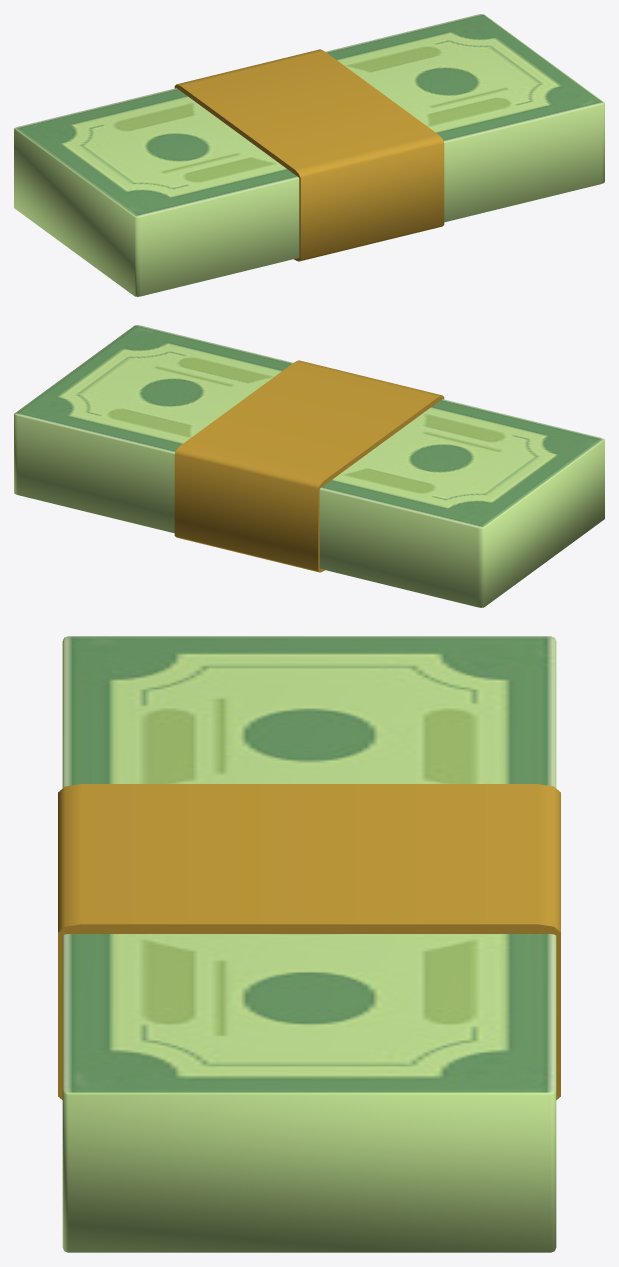
Rendered from Money.fbx.
The picture shows the model from 3 angles, top to bottom: view 1: azimuth 30°, elevation 25°; view 2: azimuth 150°, elevation 25°; view 3: azimuth 270°, elevation 25°; orthographic projection. The views are drawn at different scales.
Parts seen in each view (by area): view 1: Money; view 2: Money; view 3: Money.
Boxes of the visible parts, box(x1,y1,x2,y2) form: Money: box(14, 14, 604, 296); Money: box(14, 325, 604, 607); Money: box(58, 636, 560, 1252).
Size of the model in its own units: 0.6965 by 0.1279 by 0.3224.
